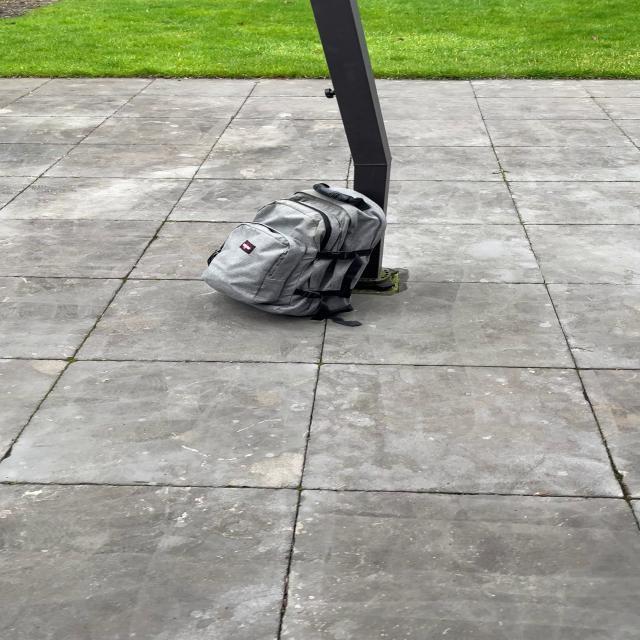backpack: (193, 179, 395, 322)
